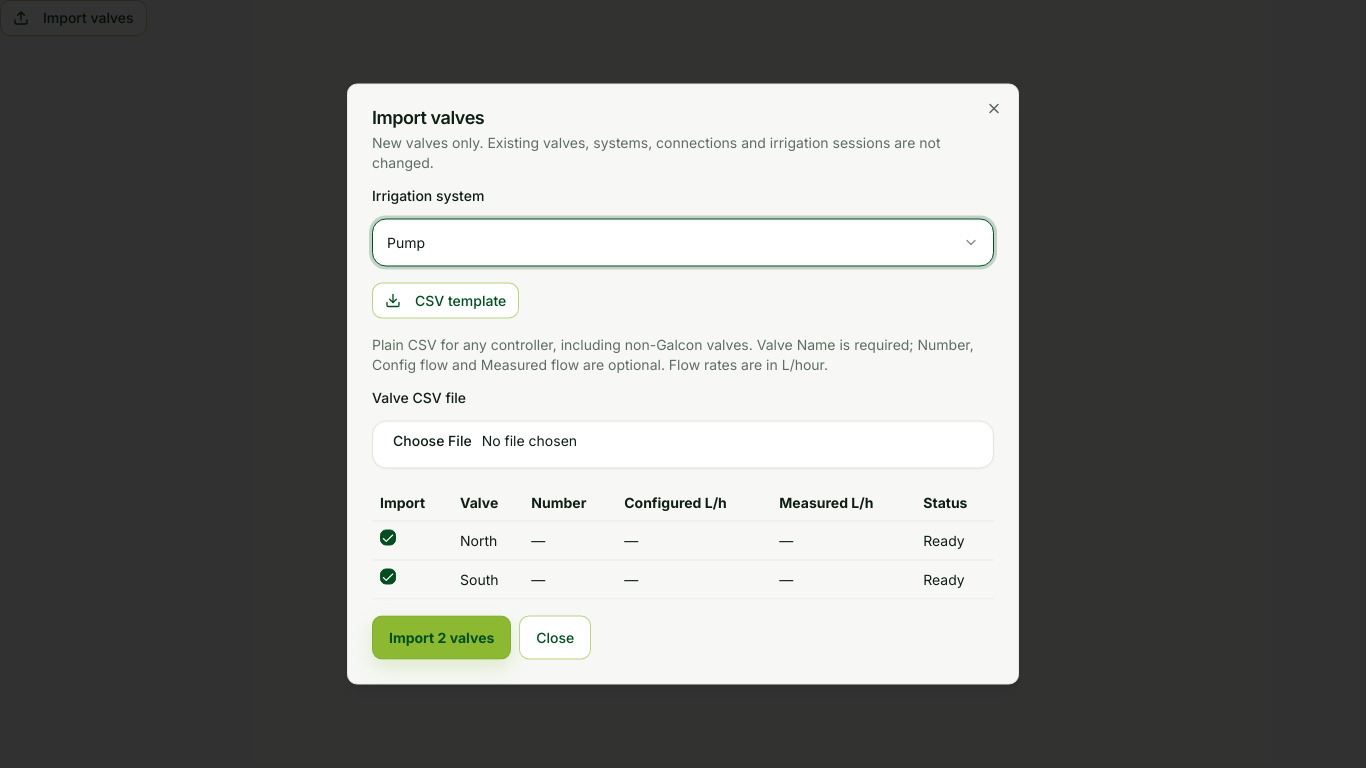
Test: stops after an unconfirmed save, never automatically retries or imports later rows
Earlier steps of the test are not shown.
Later steps or results of the test are not shown.
Click the button "Import 2 valves".
click(442, 638)  # box [372,616,511,660]
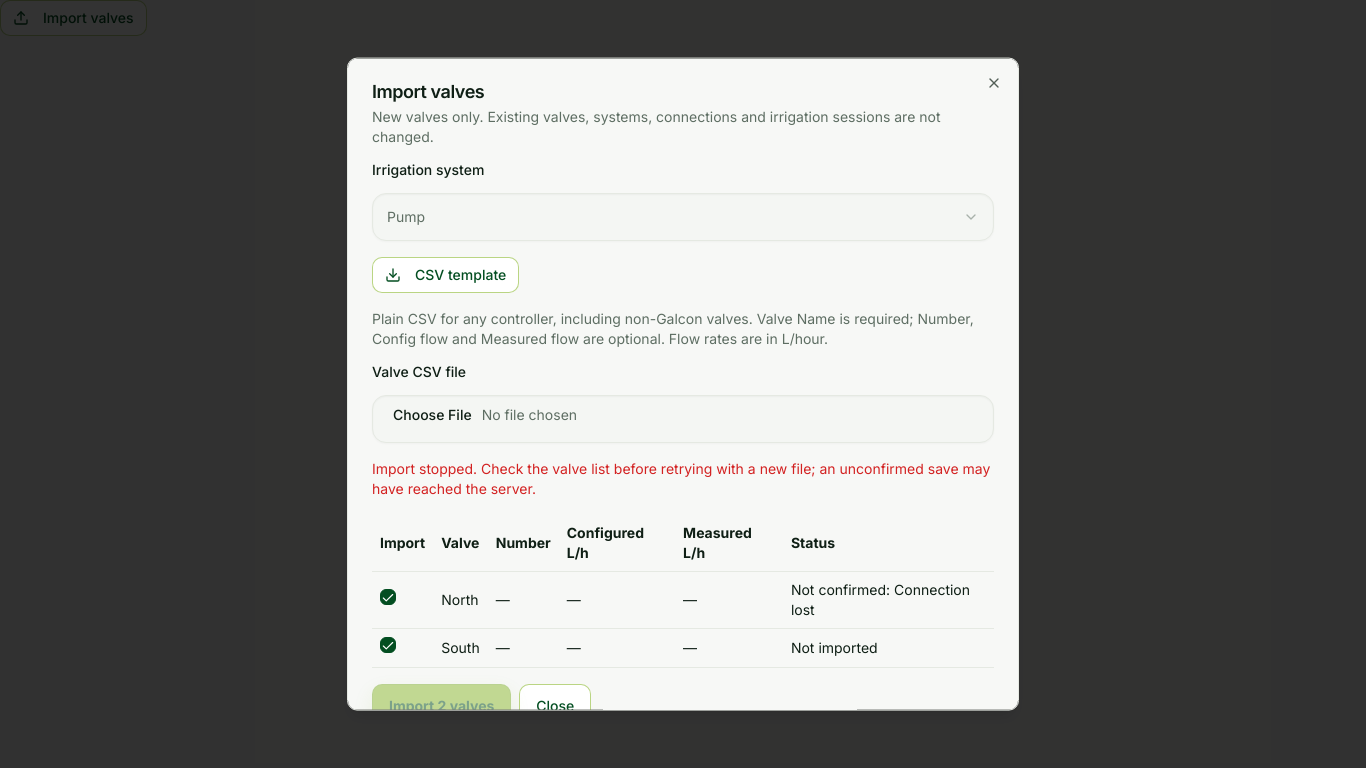
Result: the message shows "Import stopped" at [372,460,990,497]
